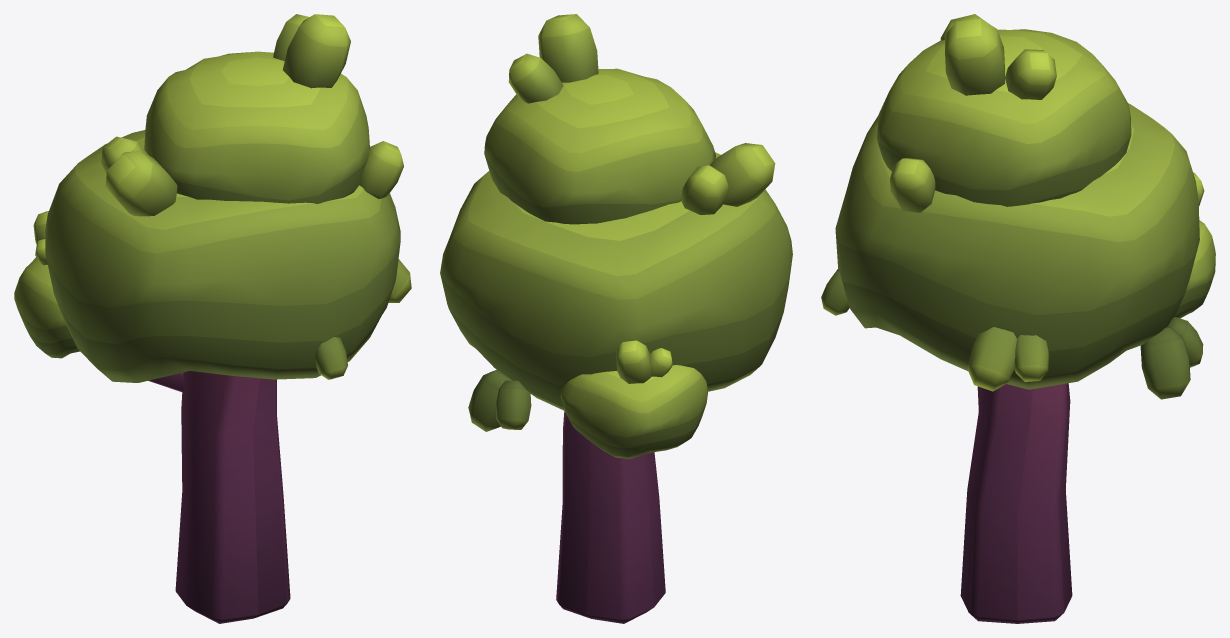
File: grassland_tree_col1_6.fbx
3 views of the same model, side by side, from view 1: azimuth 30°, elevation 25°; view 2: azimuth 150°, elevation 25°; view 3: azimuth 270°, elevation 25° (orthographic). The views are drawn at different scales.
Visible parts, largest first — view 1: grassland_tree_col1_6; view 2: grassland_tree_col1_6; view 3: grassland_tree_col1_6.
Part boxes in pixels (left/top/right/bottom): grassland_tree_col1_6: left=14, top=14, right=411, bottom=623; grassland_tree_col1_6: left=440, top=14, right=792, bottom=623; grassland_tree_col1_6: left=821, top=14, right=1215, bottom=623.
Size of the model in its own units: 460 by 793 by 458.
1 material, 1 textured.
